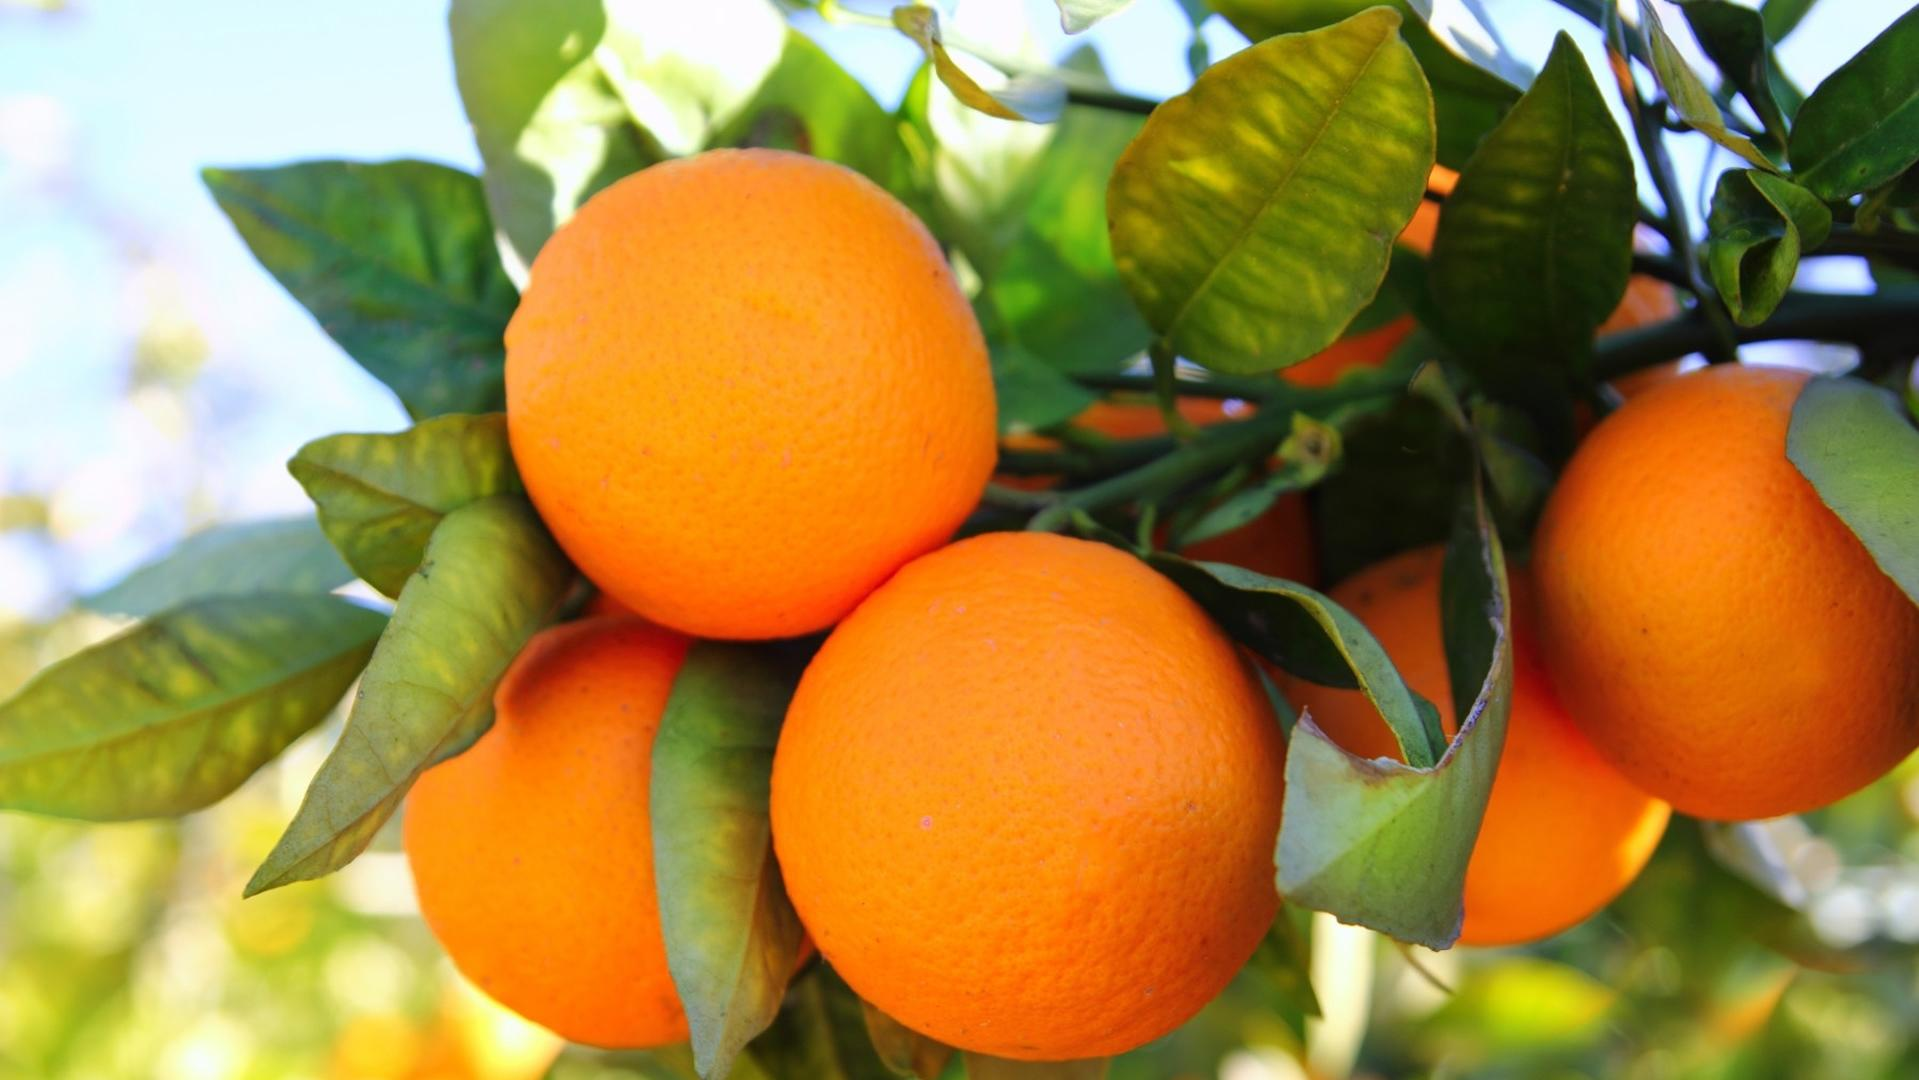orange: (751, 526, 1285, 1046), (493, 133, 990, 645), (389, 608, 811, 1065), (1537, 360, 1919, 832)
